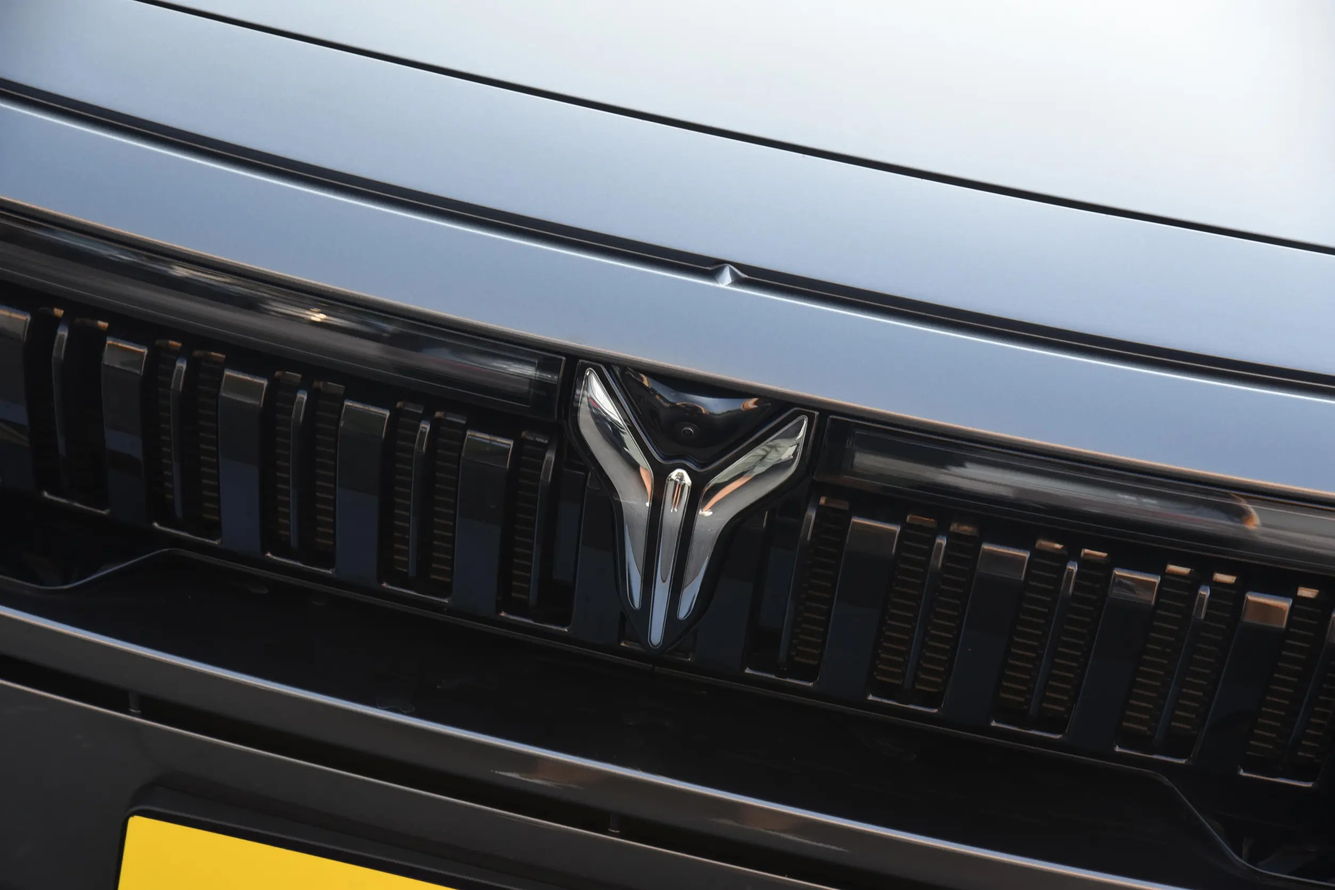VOYAH: (577, 367, 807, 649)
